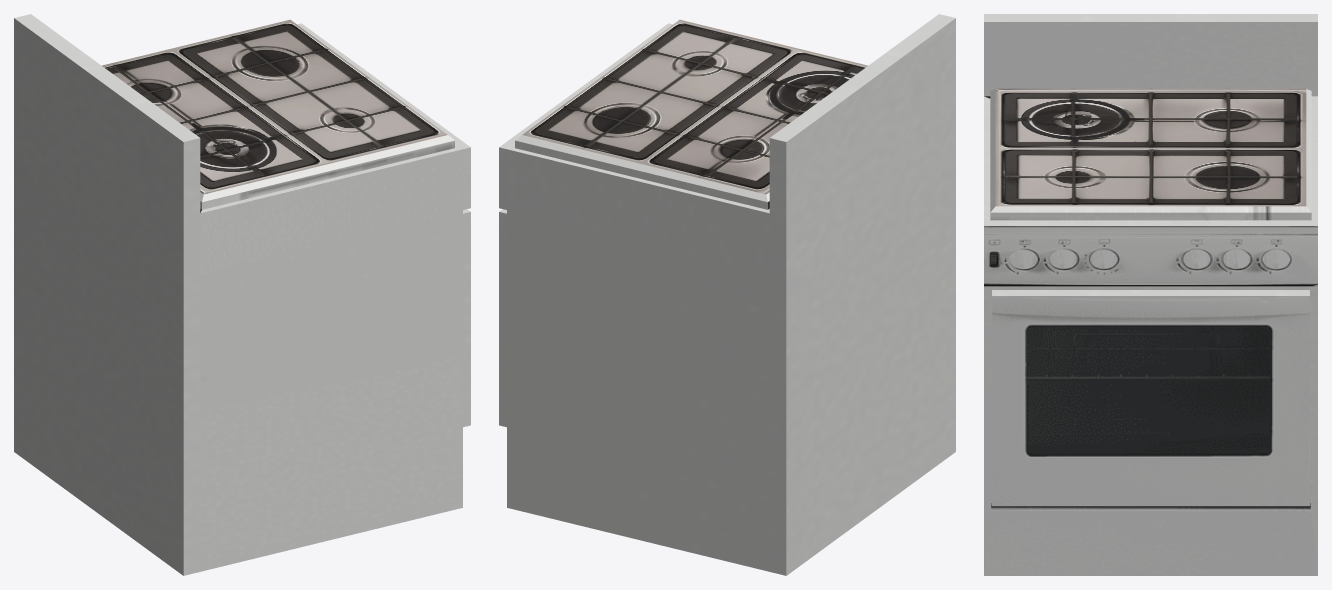
The model's file is stove.fbx.
3 views of the same model, side by side, from view 1: azimuth 30°, elevation 25°; view 2: azimuth 150°, elevation 25°; view 3: azimuth 270°, elevation 25° (orthographic).
Parts seen in each view (by area): view 1: Cocinilla_base; view 2: Cocinilla_base; view 3: Cocinilla_base.
Boxes of the visible parts, box(x1,y1,x2,y2) form: Cocinilla_base: box(14, 14, 470, 575); Cocinilla_base: box(499, 14, 955, 575); Cocinilla_base: box(984, 14, 1317, 575).
Bounding box in the file's own units: 147 × 208 × 148.
